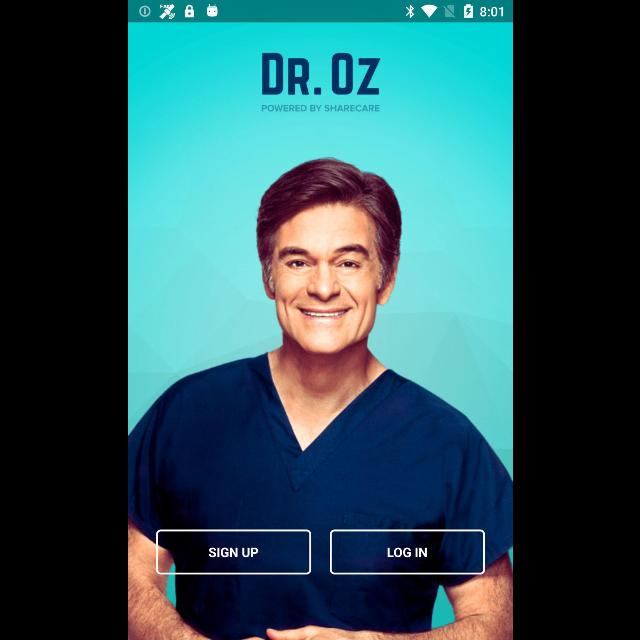backgroundimage: (128, 22, 512, 640)
text: (260, 52, 380, 96), (260, 105, 380, 113)
textbutton: (330, 530, 484, 574), (156, 530, 310, 574)
uppertaskbar: (128, 1, 512, 23)
